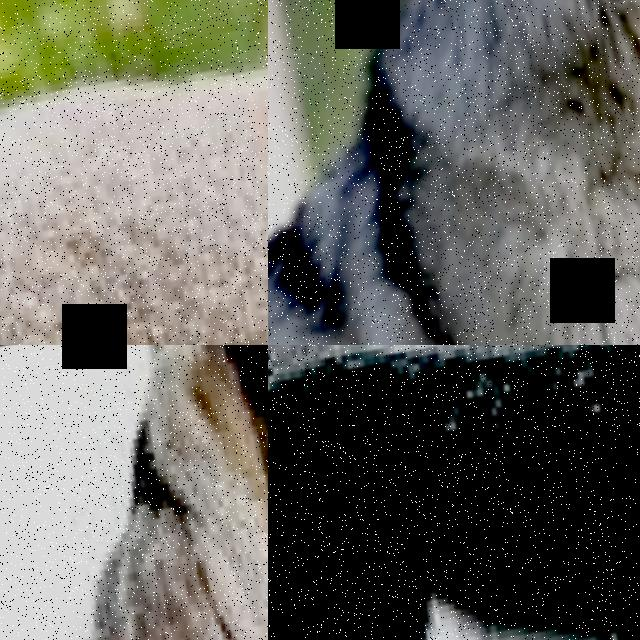dog: (0, 0, 268, 345), (0, 345, 268, 640)
wolf: (268, 0, 640, 345), (268, 345, 640, 640)
